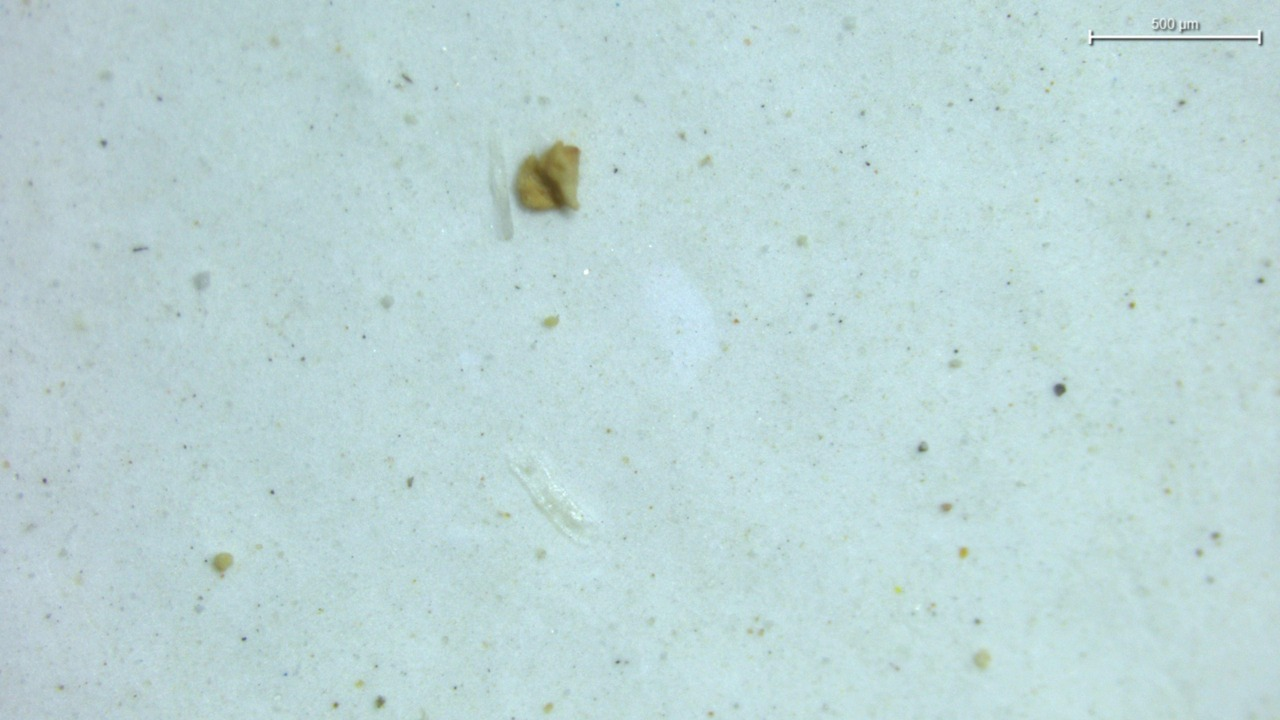microplastic_fragment: (506, 446, 595, 544), (514, 140, 581, 211)
